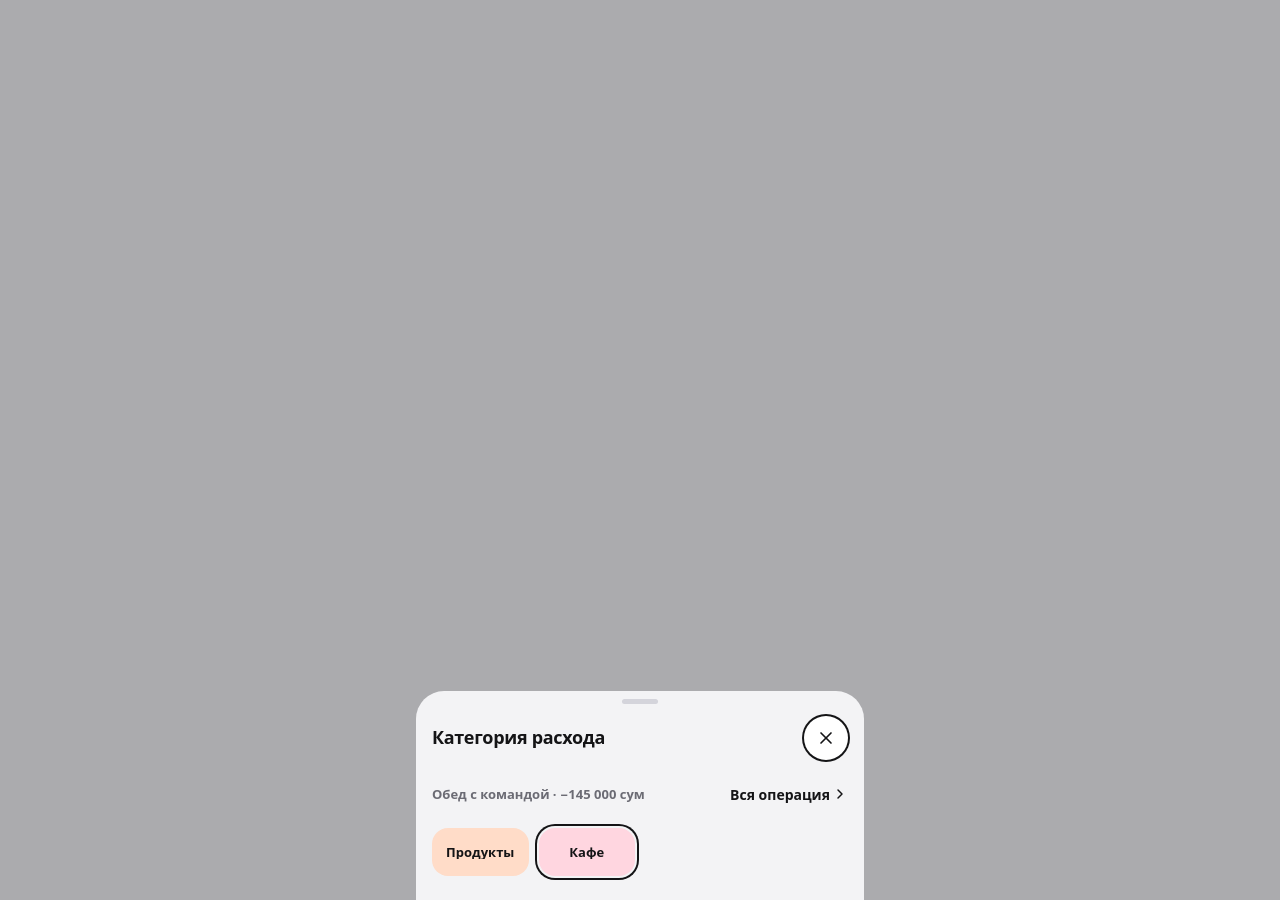
Test: the category circle of a row (board «Карточка · выбор категории») › opens the choice at once, with the note and the amount, and «Вся операция»
The image size is (1280, 900).
Click the button "Вся операция": x=789, y=794 [730,772,848,816]
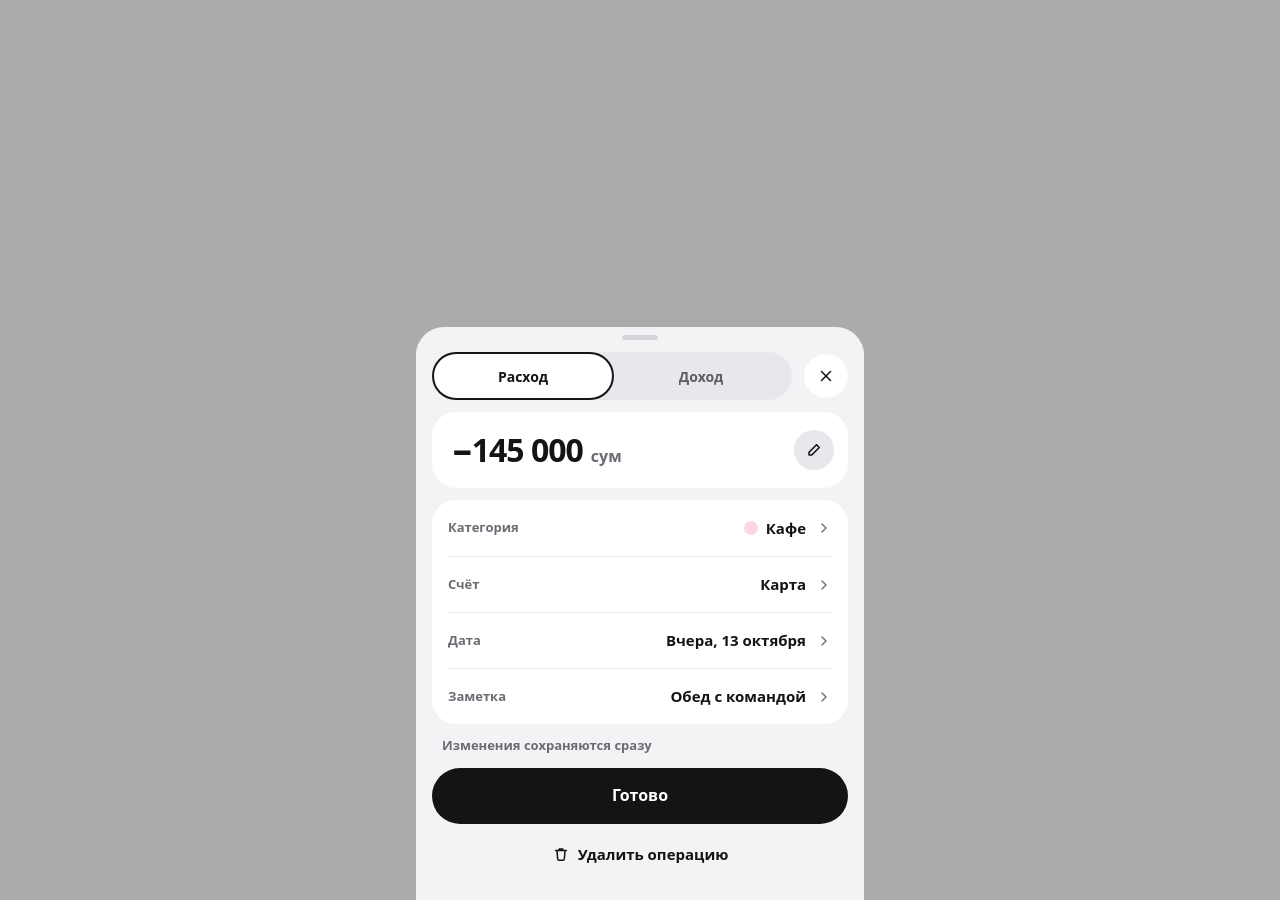
Expected: the text "Изменения сохраняются сразу" is shown, [442,736,652,756]
